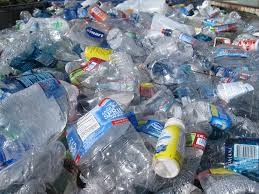plastic: (63, 97, 155, 194), (2, 76, 82, 172), (150, 110, 185, 179), (222, 135, 259, 177), (104, 28, 148, 56), (162, 26, 199, 45)
